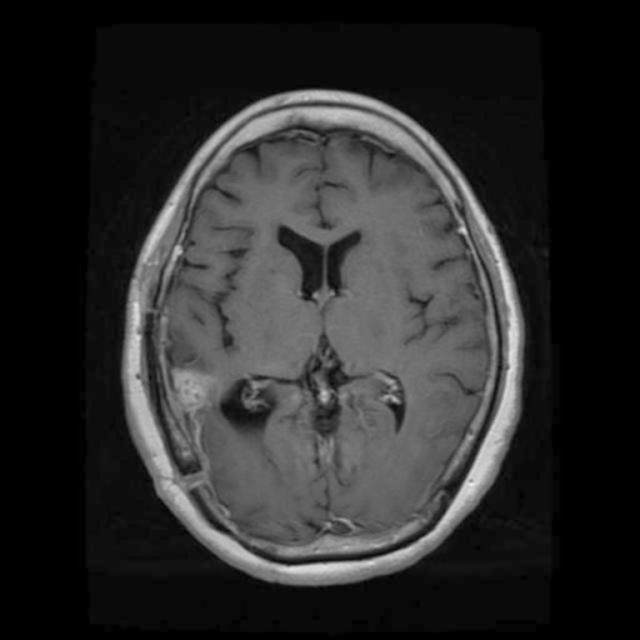pituitary tumor: (168, 361, 218, 429)
